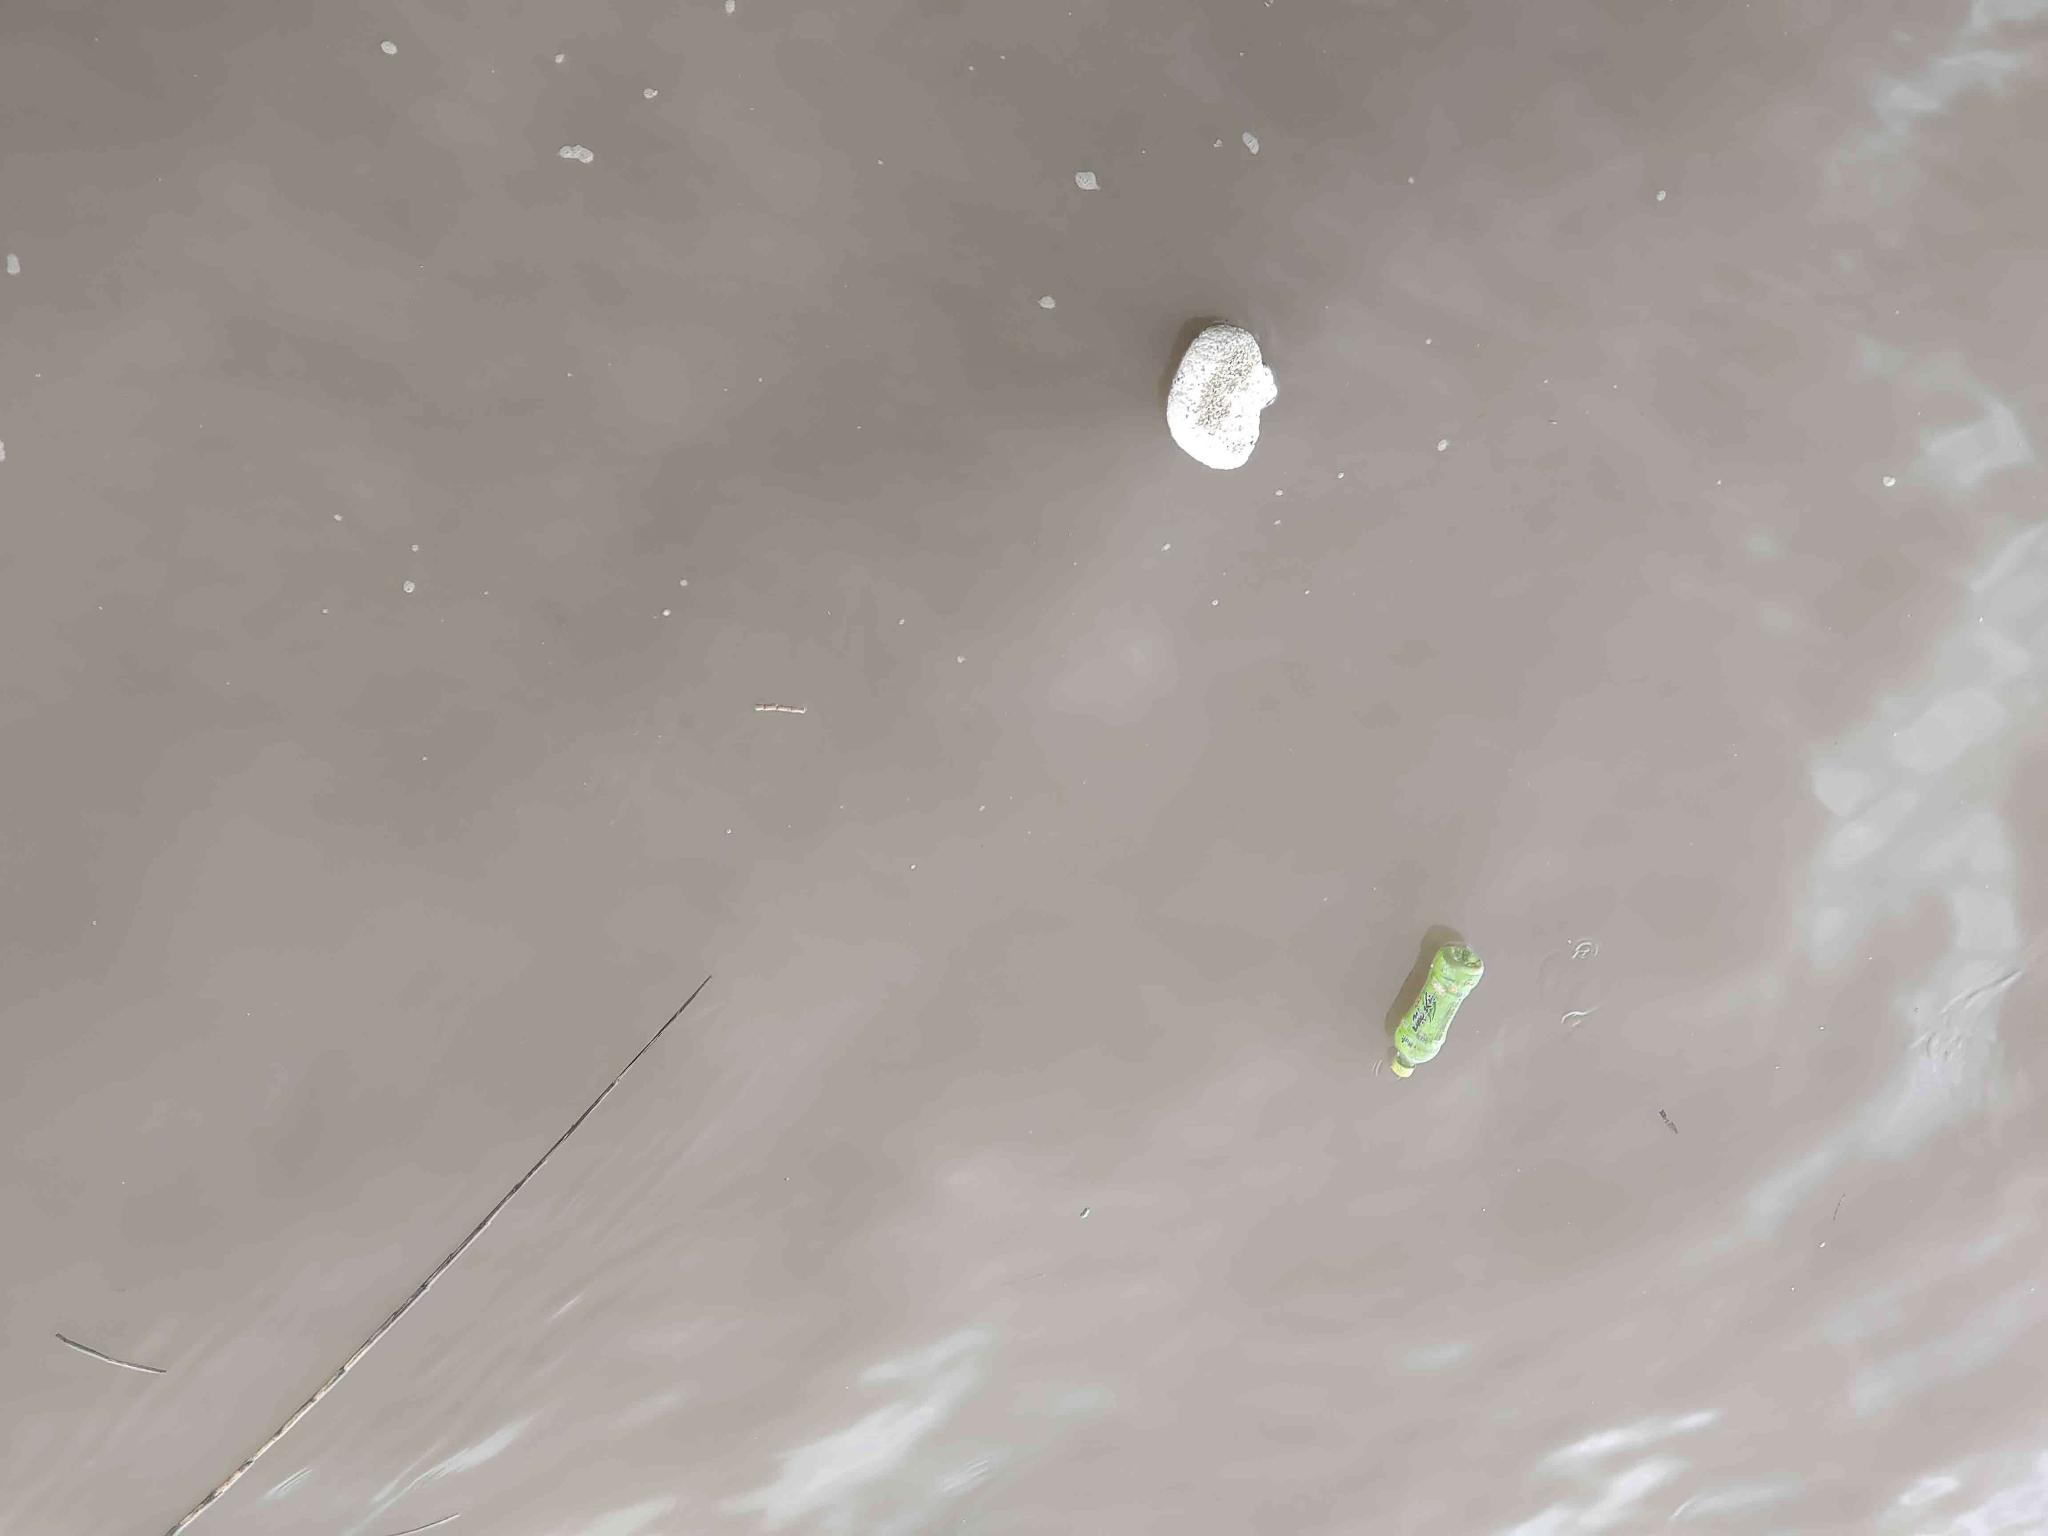Plastic: (1384, 933, 1487, 1089)
Trash: (1172, 324, 1279, 468)
